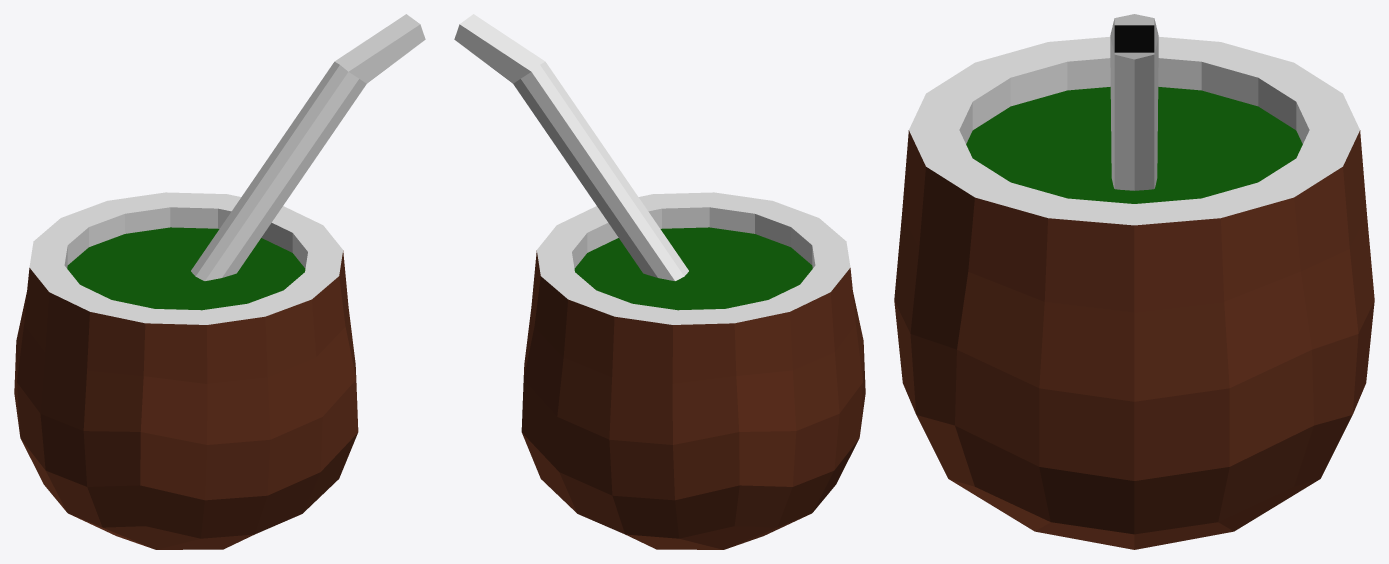
Rendered from mate.glb.
3 views of the same model, side by side, from view 1: azimuth 30°, elevation 25°; view 2: azimuth 150°, elevation 25°; view 3: azimuth 270°, elevation 25° (orthographic). The views are drawn at different scales.
Visible parts, largest first — view 1: Cube, Cube.001; view 2: Cube, Cube.001; view 3: Cube, Cube.001.
Part boxes in pixels (x1,y1,x2,y2): Cube: [14, 192, 358, 549]; Cube.001: [191, 14, 425, 280]; Cube: [521, 192, 865, 549]; Cube.001: [454, 14, 688, 280]; Cube: [894, 36, 1374, 549]; Cube.001: [1110, 14, 1158, 190].
Bounding box in the file's own units: 3.9 × 4.55 × 3.01.
